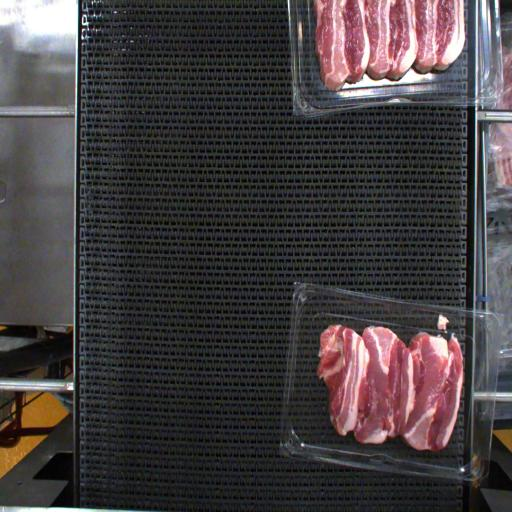loose-meat: (428, 304, 453, 334)
